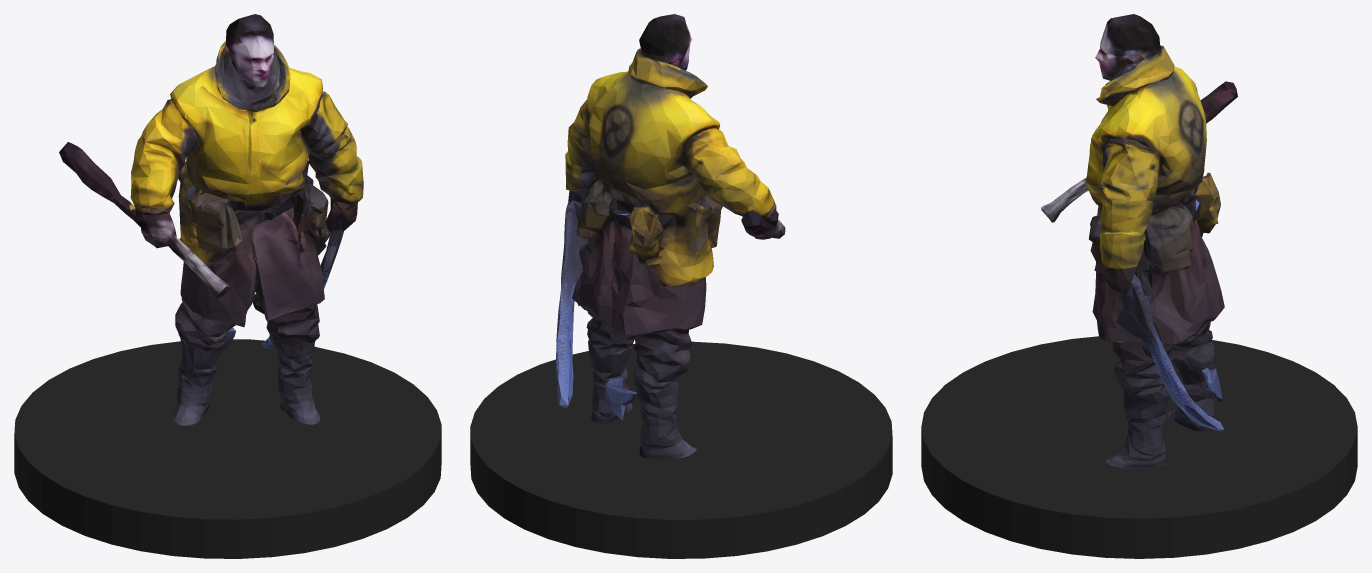
File: gabriel-diaz.glb
The picture shows the model from 3 angles, left to right: view 1: azimuth 30°, elevation 25°; view 2: azimuth 150°, elevation 25°; view 3: azimuth 270°, elevation 25°; orthographic projection. The views are drawn at different scales.
Parts seen in each view (by area): view 1: base, figure; view 2: base, figure; view 3: base, figure.
Part boxes in pixels (x1,y1,x2,y2): base: [14, 339, 441, 558]; figure: [59, 14, 363, 425]; base: [470, 341, 892, 558]; figure: [556, 14, 785, 459]; base: [921, 336, 1357, 558]; figure: [1041, 14, 1237, 468].
Bounding box in the file's own units: 1.18 × 1.37 × 1.18.
2 materials, 1 textured.
